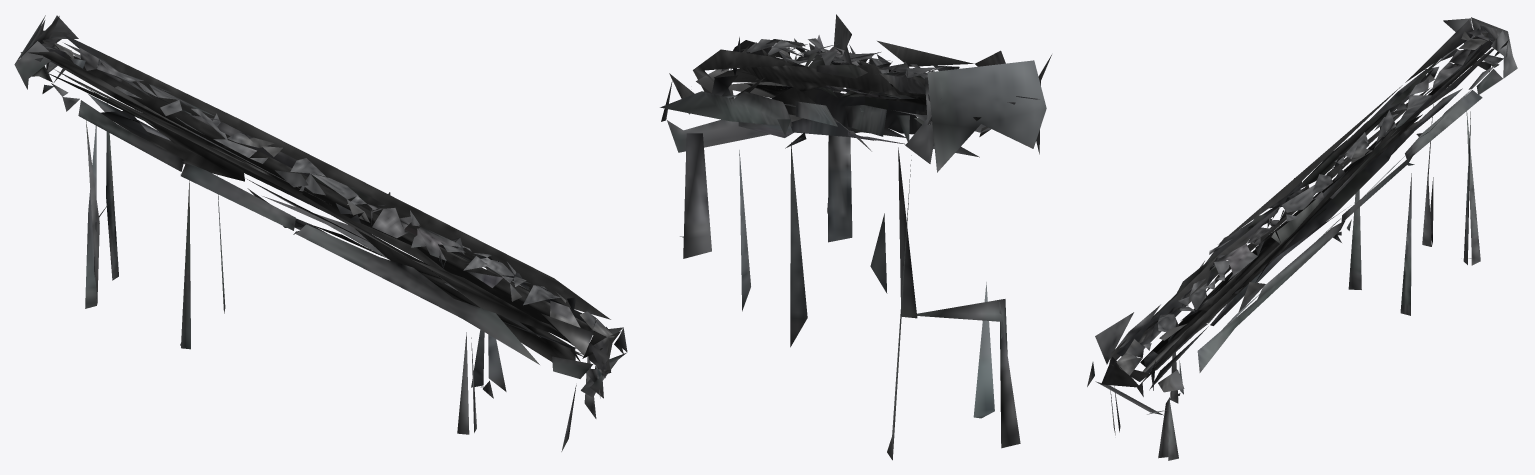
File: steinbruch_foerderband_lo.glb
3 views of the same model, side by side, from view 1: azimuth 30°, elevation 25°; view 2: azimuth 150°, elevation 25°; view 3: azimuth 270°, elevation 25° (orthographic). The views are drawn at different scales.
Visible parts, largest first — view 1: Prop; view 2: Prop; view 3: Prop.
Boxes of the visible parts, x1=… form: Prop: x1=14, y1=15, x2=627, y2=451; Prop: x1=660, y1=14, x2=1051, y2=460; Prop: x1=1087, y1=17, x2=1517, y2=460.
Bounding box in the file's own units: 1.31 × 1.01 × 1.38.
1 material, 1 textured.
